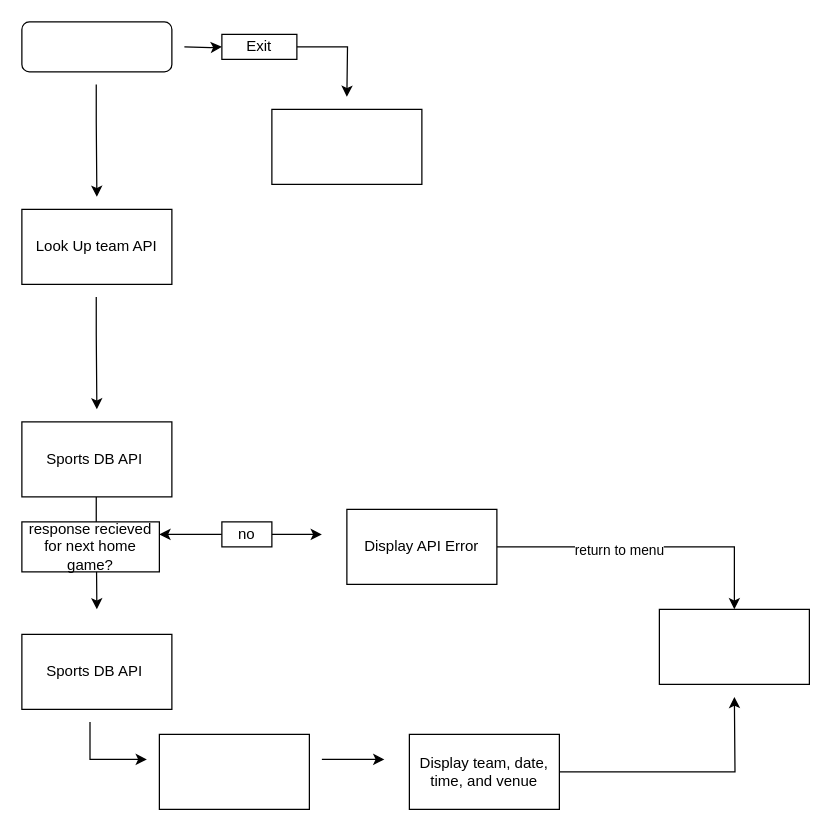
The diagram is 831 pixels wide and 831 high, and some of its shapes have lost their labels. Here are the shapes that lost their labels. From the top down, the box of each, then its label:
(21, 21, 172, 72): User Choice
(271, 108, 422, 184): End
(658, 608, 809, 684): Display team selection menu
(158, 733, 309, 809): parse response using GSON
